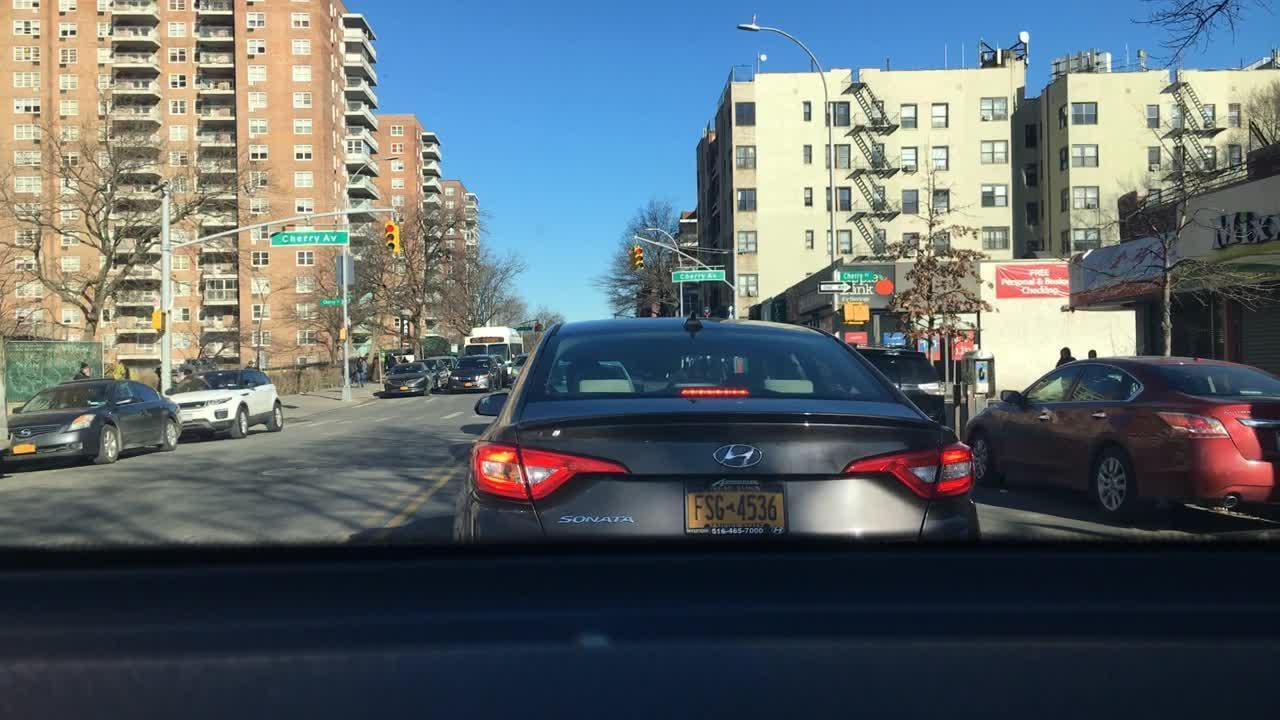Hyundai: (702, 433, 773, 476)
